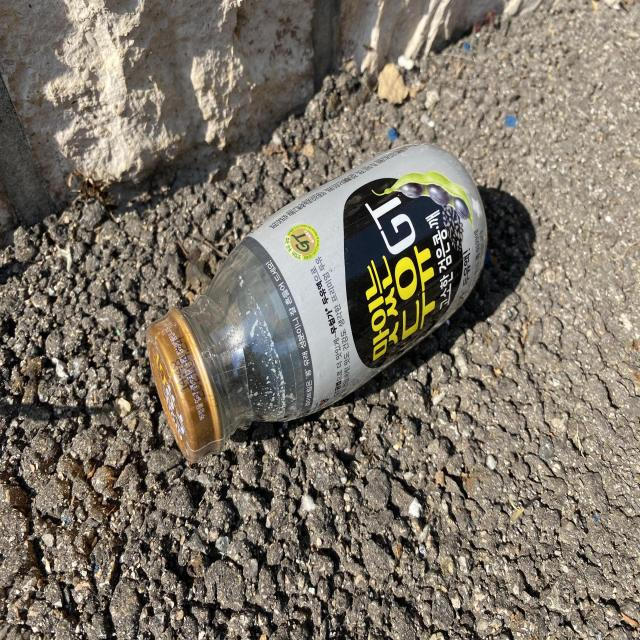glass: (146, 144, 488, 462)
